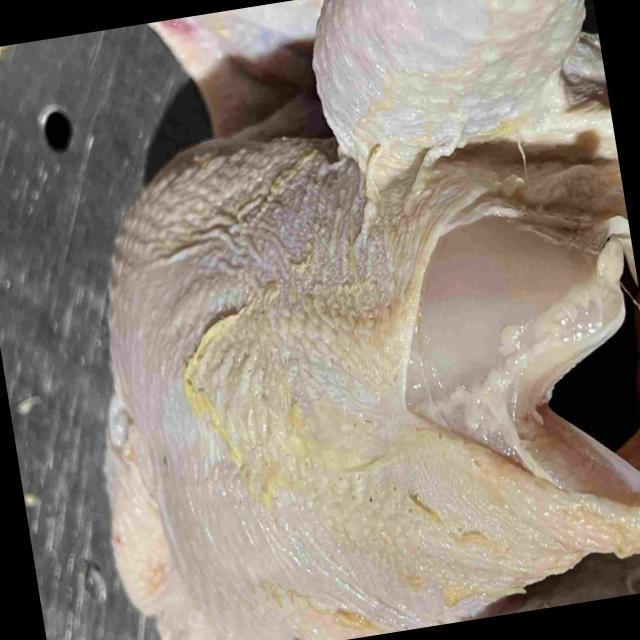breast: (107, 136, 640, 640)
leg: (306, 0, 584, 157)
neck: (108, 399, 239, 640)
wing: (149, 0, 318, 138)
